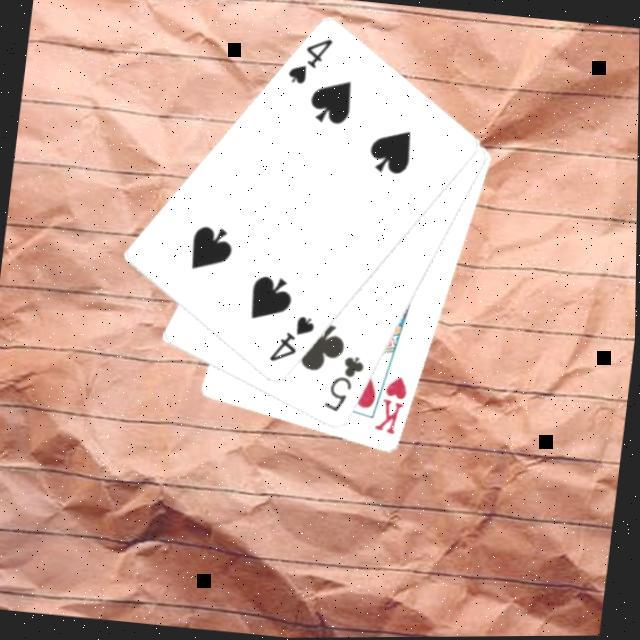4S: (264, 308, 318, 368), (282, 30, 336, 89)
5C: (319, 348, 368, 416)
KH: (369, 370, 412, 437)
